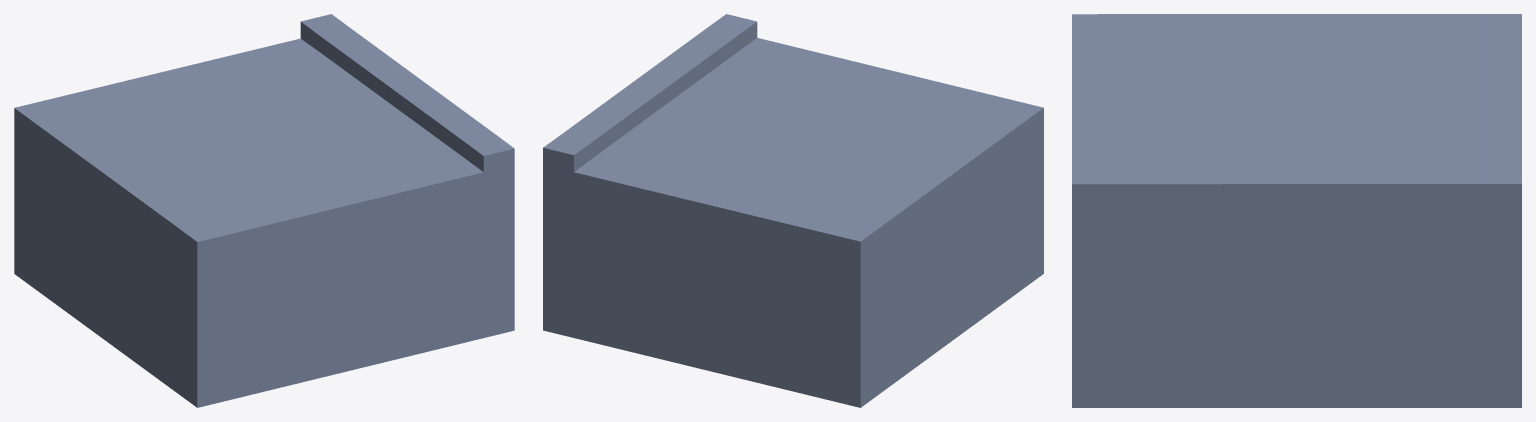
File: OneWallCubeyBoy.fbx
3 renders of one model, left to right at view 1: azimuth 30°, elevation 25°; view 2: azimuth 150°, elevation 25°; view 3: azimuth 270°, elevation 25°, orthographic. The views are drawn at different scales.
Visible parts, largest first — view 1: Cube.112; view 2: Cube.112; view 3: Cube.112.
Boxes of the visible parts, left/top/right/bottom form: Cube.112: left=14, top=14, right=514, bottom=407; Cube.112: left=543, top=14, right=1043, bottom=407; Cube.112: left=1072, top=14, right=1521, bottom=407.
Bounding box in the file's own units: 200 × 110 × 200.
